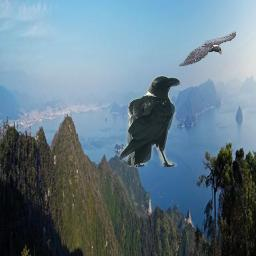Crow: (118, 75, 183, 167), (179, 31, 236, 67)
